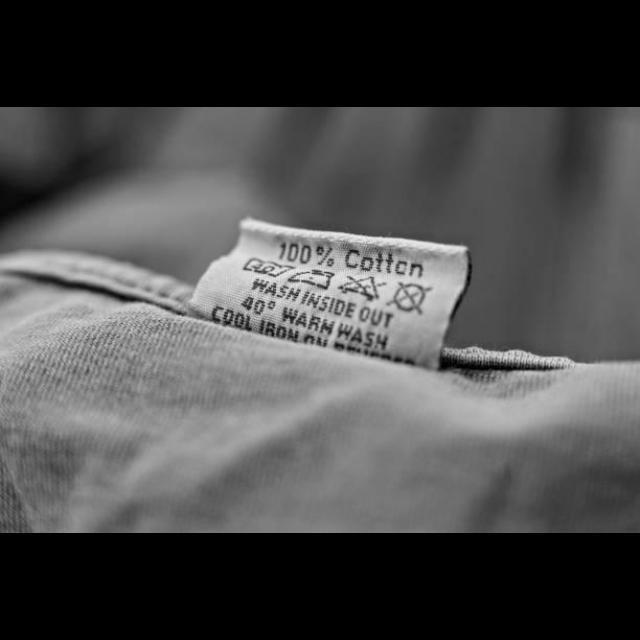40C: (240, 254, 298, 280)
DN_bleach: (334, 272, 388, 304)
DN_dry_clean: (385, 280, 435, 316)
iron_low: (286, 265, 336, 293)
